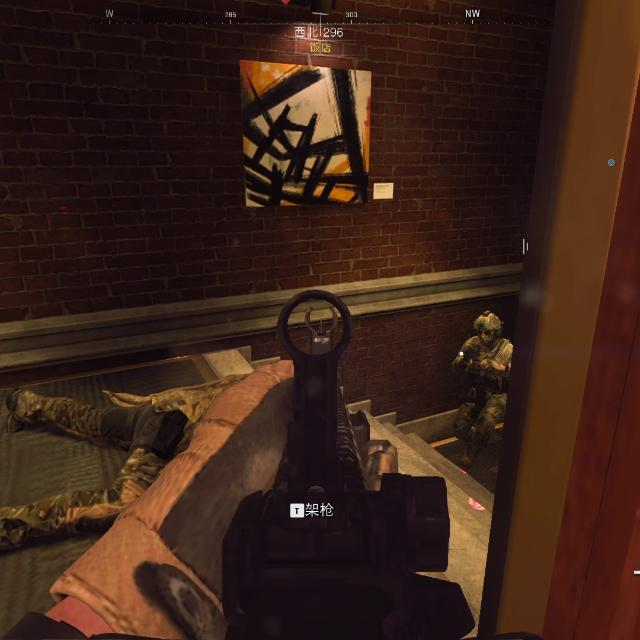MW2_body: (451, 311, 514, 478)
